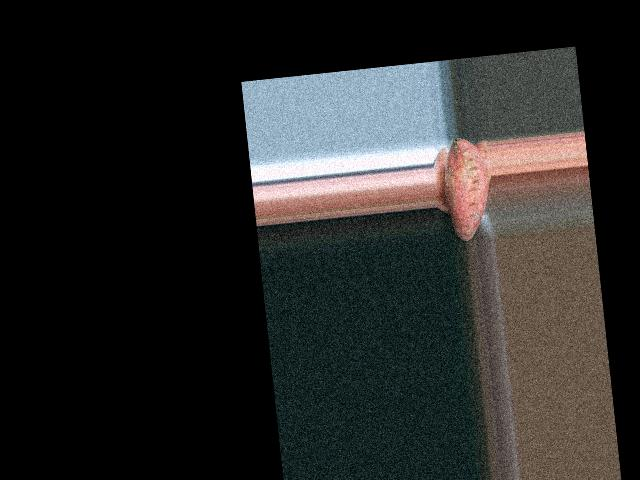sweet_potato: (444, 135, 491, 241)
